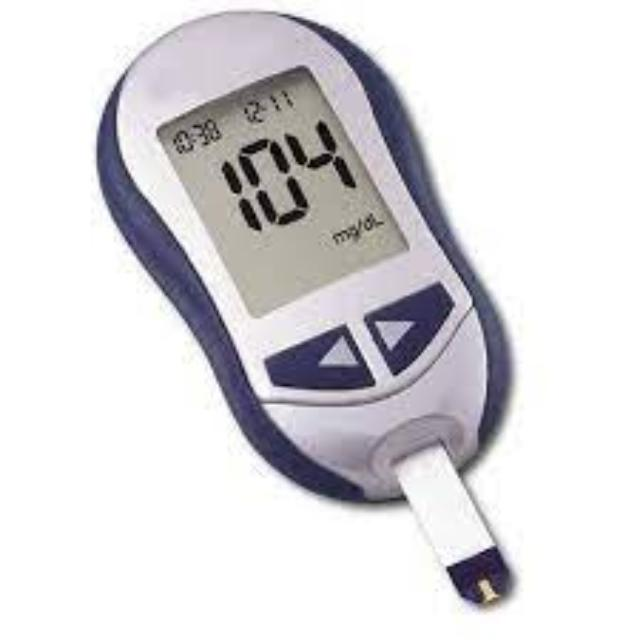Glucose-Meter: (98, 11, 510, 604)
